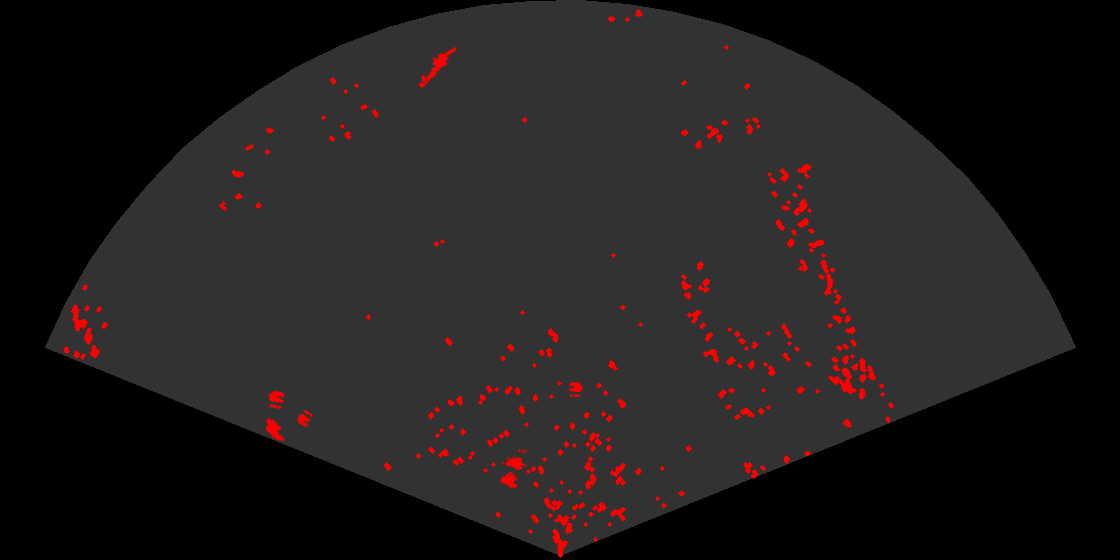AUV: (264, 416, 286, 443)
ball: (267, 389, 286, 411), (296, 408, 314, 428), (568, 381, 584, 398)
cage: (499, 449, 527, 490)
frogman: (421, 47, 456, 83)
